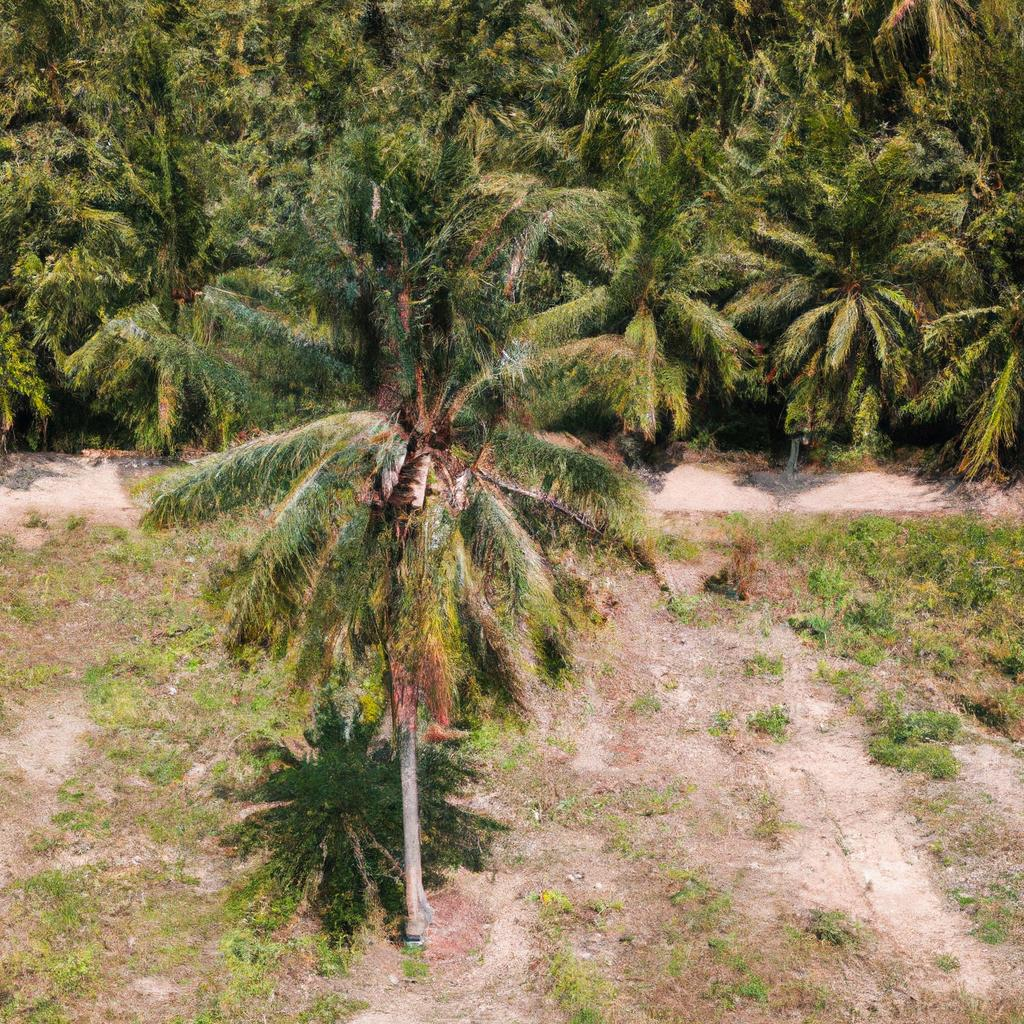coconut_tree: (163, 115, 709, 785)
